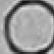no answer: (5, 0, 54, 54)
